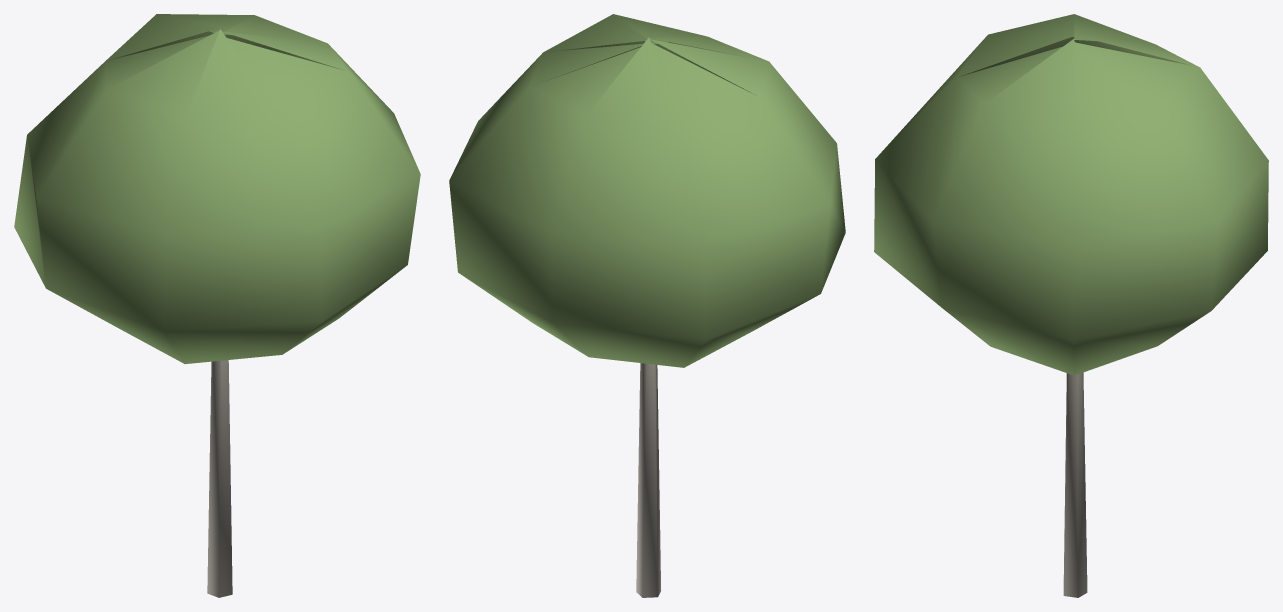
Rendered from terminalia-far.glb.
3 renders of one model, left to right at view 1: azimuth 30°, elevation 25°; view 2: azimuth 150°, elevation 25°; view 3: azimuth 270°, elevation 25°, orthographic.
Visible parts, largest first — view 1: terminalia-far_canopy_terminalia_far, terminalia-far_canopy_bark_pale; view 2: terminalia-far_canopy_terminalia_far, terminalia-far_canopy_bark_pale; view 3: terminalia-far_canopy_terminalia_far, terminalia-far_canopy_bark_pale.
Part boxes in pixels (left/top/right/bottom): terminalia-far_canopy_terminalia_far: left=14, top=14, right=420, bottom=363; terminalia-far_canopy_bark_pale: left=207, top=360, right=232, bottom=597; terminalia-far_canopy_terminalia_far: left=449, top=14, right=845, bottom=367; terminalia-far_canopy_bark_pale: left=636, top=363, right=660, bottom=597; terminalia-far_canopy_terminalia_far: left=874, top=14, right=1268, bottom=375; terminalia-far_canopy_bark_pale: left=1063, top=372, right=1087, bottom=597.
Bounding box in the file's own units: 10.78 × 15.85 × 10.17.
